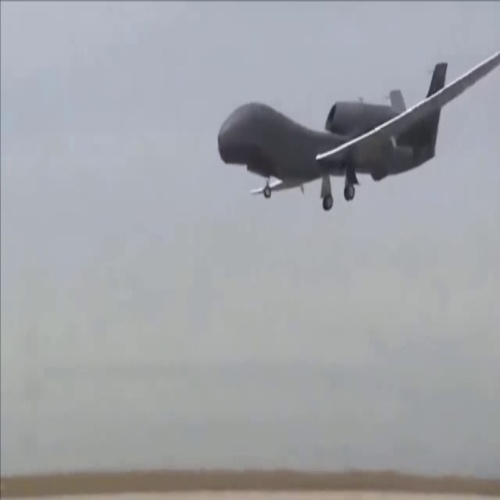uav: (215, 48, 498, 210)
